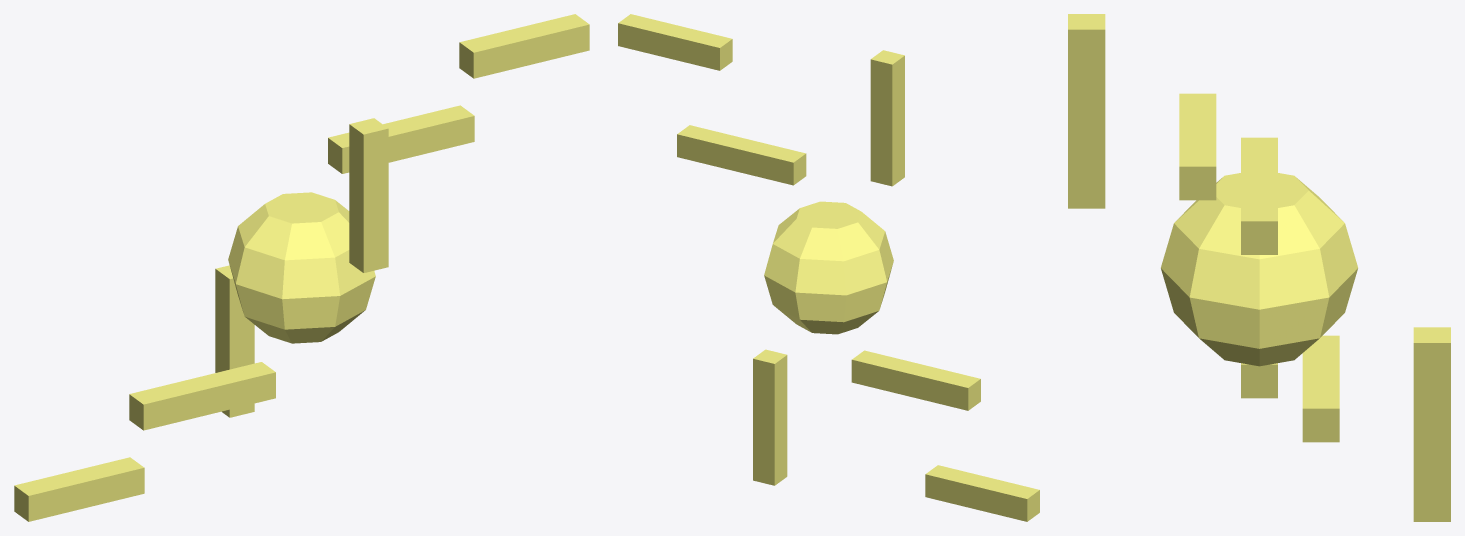
The model's file is spell_lightning_spark.glb.
The picture shows the model from 3 angles, left to right: view 1: azimuth 30°, elevation 25°; view 2: azimuth 150°, elevation 25°; view 3: azimuth 270°, elevation 25°; orthographic projection. The views are drawn at different scales.
Parts seen in each view (by area): view 1: SpellLightningSpark_Node; view 2: SpellLightningSpark_Node; view 3: SpellLightningSpark_Node.
Part boxes in pixels (x1,y1,x2,y2): SpellLightningSpark_Node: [14, 14, 589, 521]; SpellLightningSpark_Node: [618, 14, 1039, 521]; SpellLightningSpark_Node: [1068, 14, 1450, 521].
Size of the model in its own units: 0.62 by 0.47 by 0.31.
